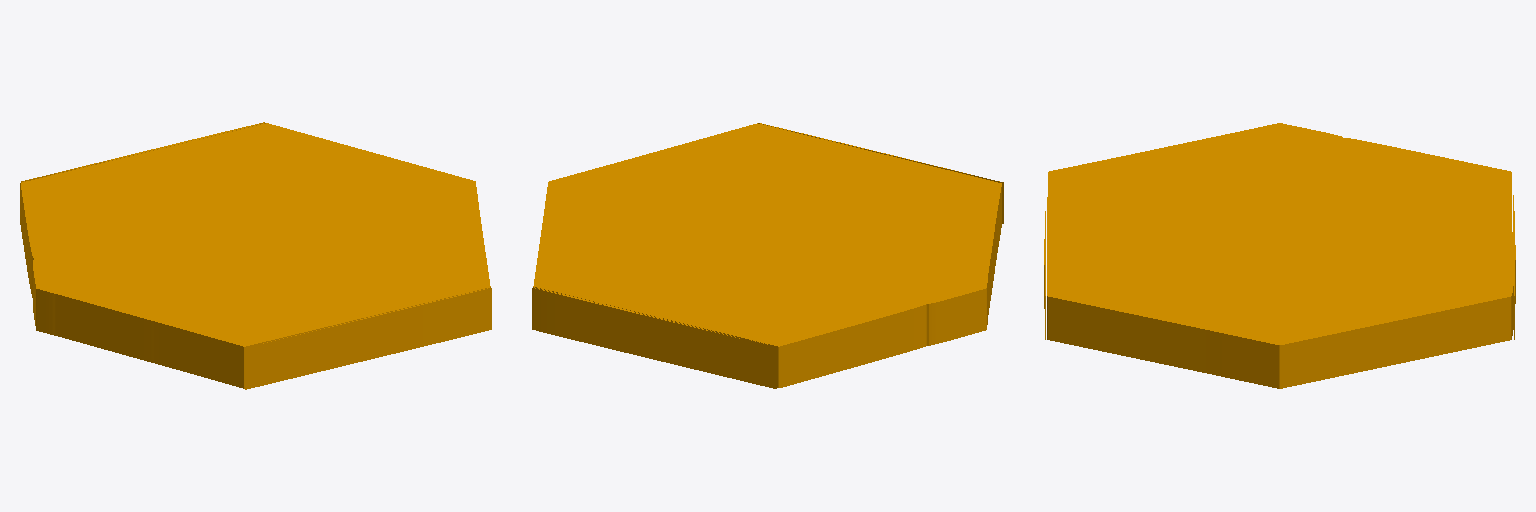
The robot description file, URDF, robot "hexagonal.urdf":
<?xml version="1.0" encoding="utf-8"?>
<robot name="hexagonal.urdf">
  <link name="baseLink">
    <contact>
      <lateral_friction value="0.5"/>
      <rolling_friction value="0.001"/>
      <spinning_friction value="0.001"/>
    </contact>
    <inertial>
      <origin rpy="0 0 0" xyz="0 0 0"/>
      <mass value="0.05"/>
      <inertia ixx="1" ixy="0" ixz="0" iyy="1" iyz="0" izz="1"/>
    </inertial>
    <visual>
      <origin rpy="0 0 0" xyz="0 0 0"/>
      <geometry>
        <mesh filename="hexagonal.obj" scale="0.2 0.2 0.1"/> <!-- Scale x and y by 3.5, z by 1.0 -->
      </geometry>
    </visual>
    <collision>
      <origin rpy="0 0 0" xyz="0 0 0"/>
      <geometry>
        <mesh filename="hexagonal.obj" scale="0.2 0.2 0.1"/> <!-- Scale x and y by 3.5, z by 1.0 -->
      </geometry>
    </collision>
  </link>
</robot>

--- Facts derived from the render (not from the file) ---
Views: 3 orthographic renders of the robot side by side, from view 1: azimuth 30°, elevation 25°; view 2: azimuth 150°, elevation 25°; view 3: azimuth 270°, elevation 25°.
Robot: hexagonal.urdf — 1 links, 0 joints (none); root link baseLink; default pose: every joint at zero.
Links seen in each view (by area): view 1: baseLink; view 2: baseLink; view 3: baseLink.
Boxes of the visible links, x1,y1,x2,y2 form: baseLink: (20, 122, 491, 389); baseLink: (532, 123, 1003, 388); baseLink: (1044, 123, 1515, 388).
Size in the robot's own frame: 0.4306 by 0.3854 by 0.0394 metres.
1 mesh visuals loaded from 1 distinct referenced files (1 OBJ).